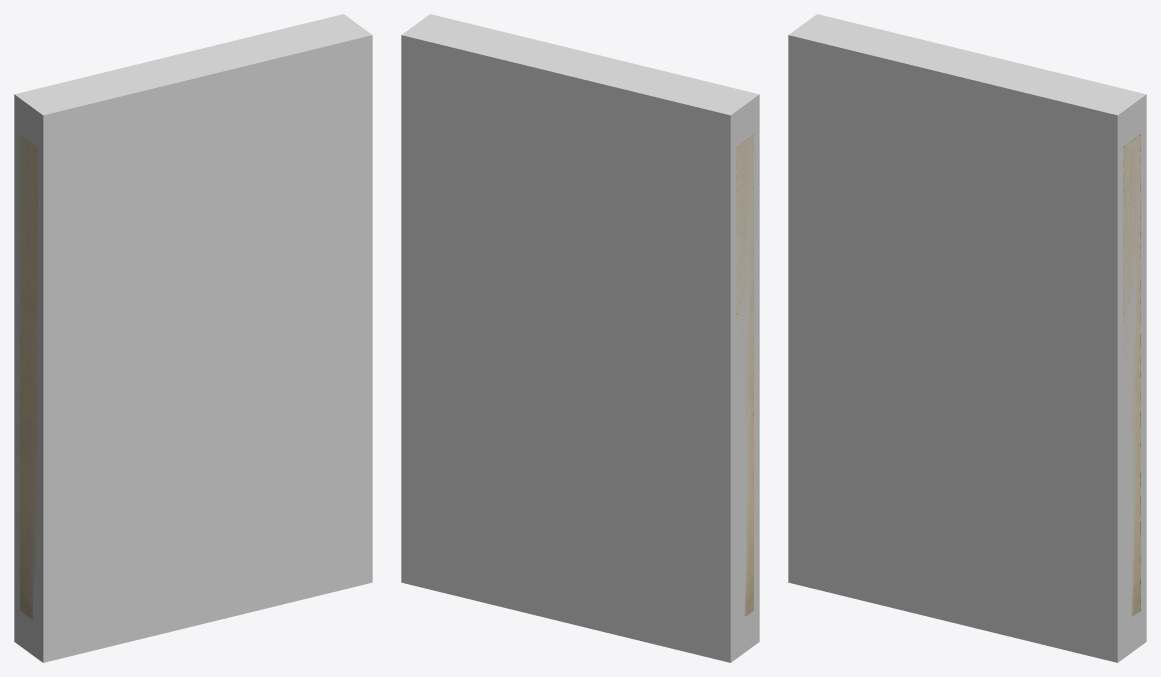
Rendered from house_wall_plain.glb.
The picture shows the model from 3 angles, left to right: view 1: azimuth 30°, elevation 25°; view 2: azimuth 150°, elevation 25°; view 3: azimuth 330°, elevation 25°; orthographic projection.
Parts seen in each view (by area): view 1: COL_house_wall_plain_static_00, house_wall_plain_static; view 2: COL_house_wall_plain_static_00, house_wall_plain_static; view 3: COL_house_wall_plain_static_00, house_wall_plain_static.
Part boxes in pixels (x1=…): COL_house_wall_plain_static_00: x1=14, y1=14, x2=372, y2=662; house_wall_plain_static: x1=20, y1=134, x2=37, y2=619; COL_house_wall_plain_static_00: x1=401, y1=14, x2=759, y2=662; house_wall_plain_static: x1=736, y1=134, x2=753, y2=616; COL_house_wall_plain_static_00: x1=788, y1=14, x2=1146, y2=662; house_wall_plain_static: x1=1123, y1=134, x2=1140, y2=616.
Size of the model in its own units: 1.75 by 2.78 by 0.2651.
2 materials, 2 textured.
